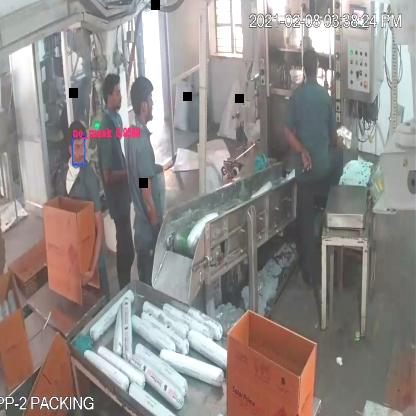no_glove: (282, 121, 320, 190), (79, 191, 105, 285), (133, 155, 163, 233)
